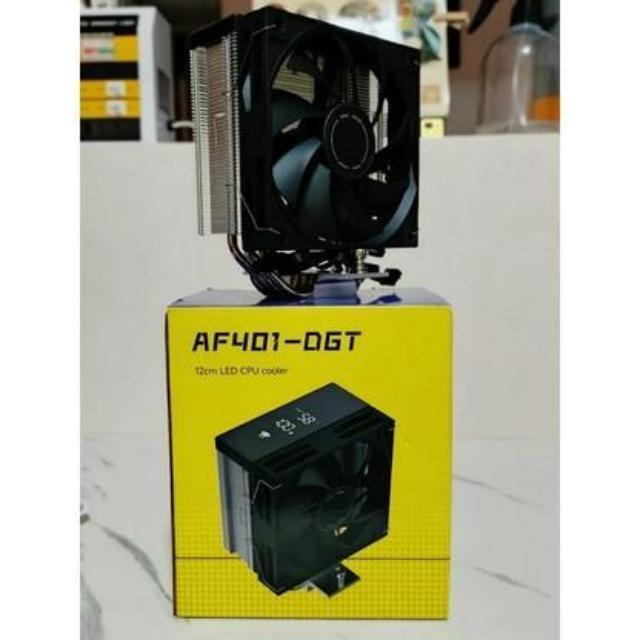CPU_Fan: (183, 5, 423, 293), (210, 379, 395, 601)
